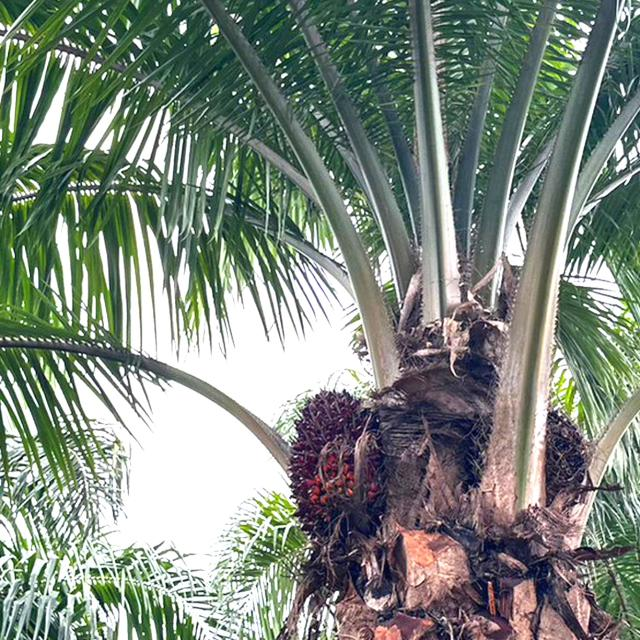ripe: (289, 383, 383, 522)
